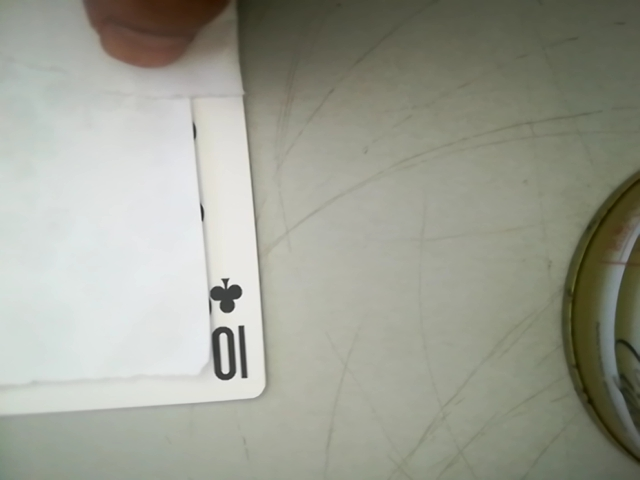mh 10: (195, 267, 264, 389)
